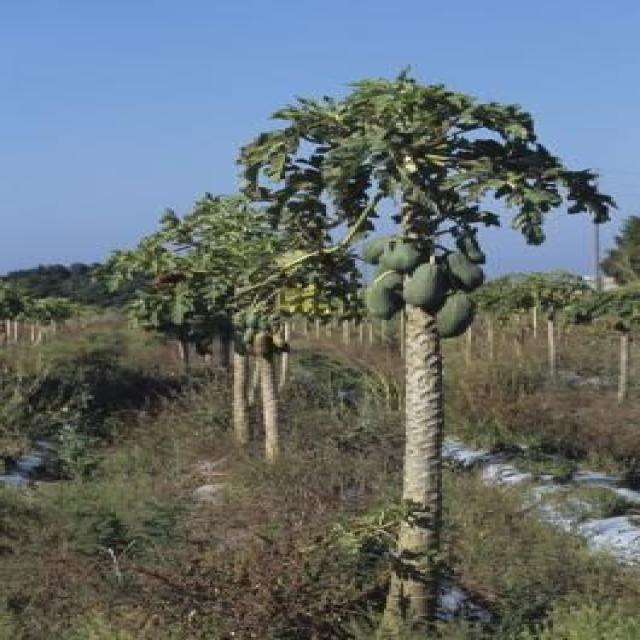Papaya-Tree: (282, 79, 602, 631), (128, 183, 282, 407)
